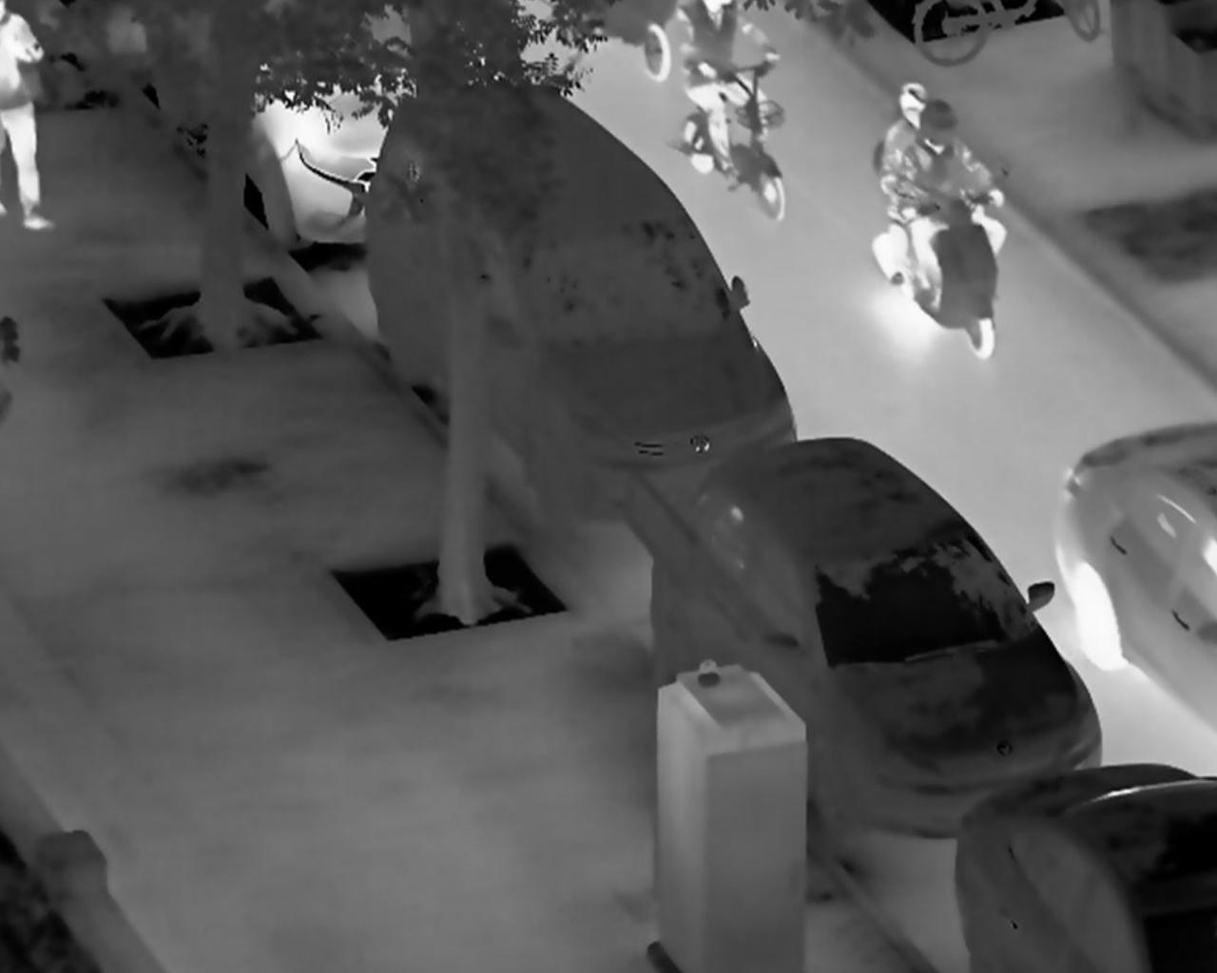person: (898, 97, 1008, 312), (676, 2, 783, 196)
